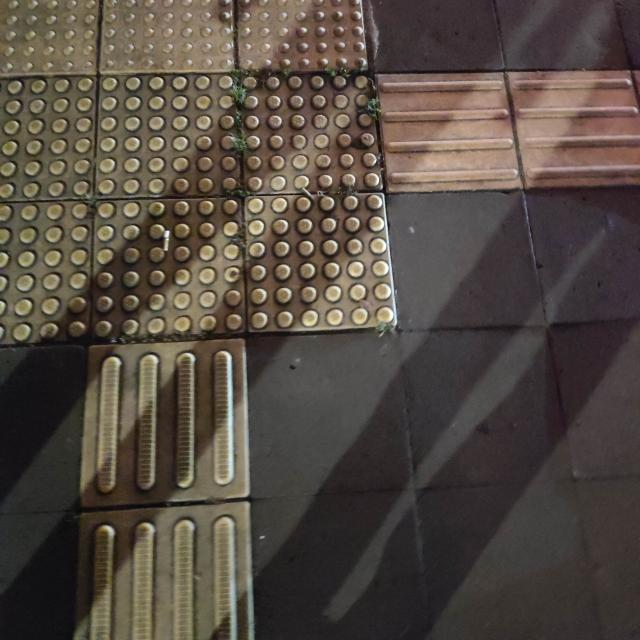kanan: (31, 23, 606, 429)
